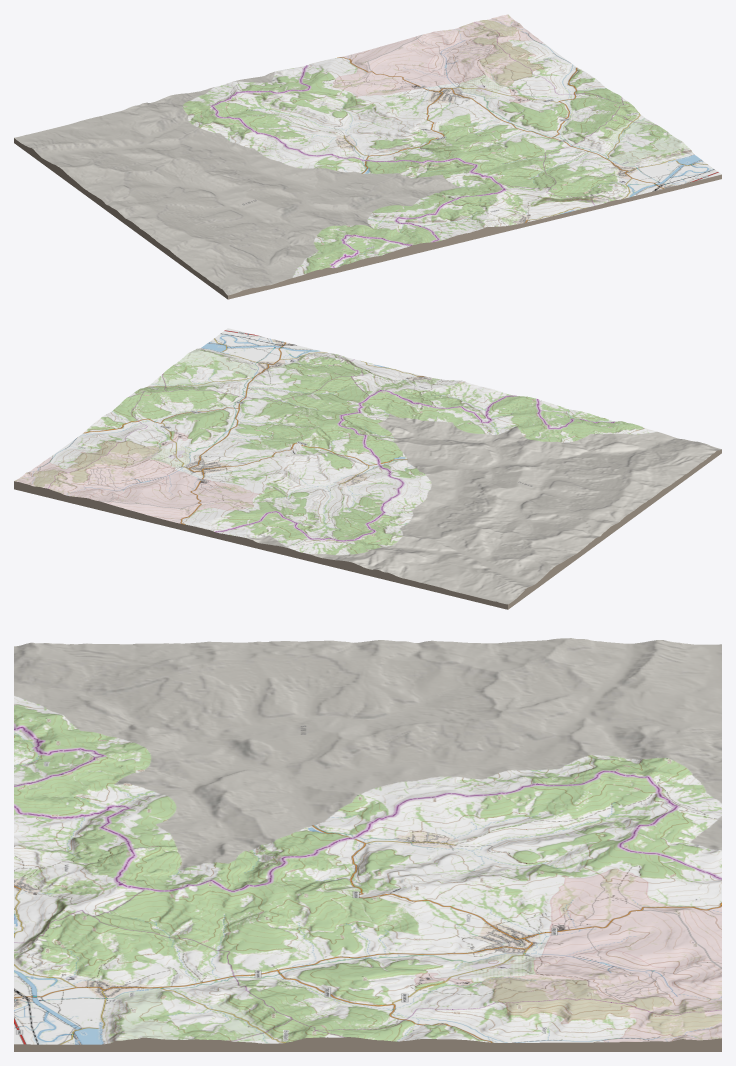
3 views of the same model, one above another, from view 1: azimuth 30°, elevation 25°; view 2: azimuth 150°, elevation 25°; view 3: azimuth 270°, elevation 25° (orthographic). The views are drawn at different scales.
Visible parts, largest first — view 1: BV50-C1 Cincu; view 2: BV50-C1 Cincu; view 3: BV50-C1 Cincu.
Boxes of the visible parts, x1,y1,x2,y2 form: BV50-C1 Cincu: [14, 14, 721, 299]; BV50-C1 Cincu: [14, 328, 721, 609]; BV50-C1 Cincu: [14, 638, 721, 1051].
Bounding box in the file's own units: 20000 × 452 × 15000.
5 materials, 1 textured.
